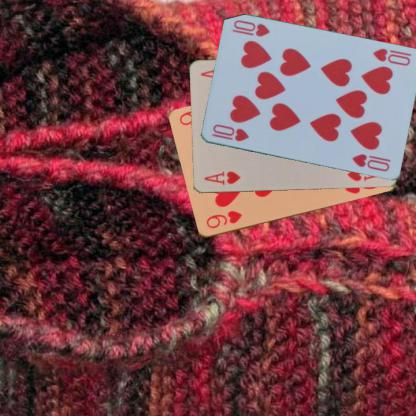10h: (209, 121, 250, 143), (370, 45, 411, 67)
9h: (204, 208, 244, 230)
Ah: (202, 168, 242, 186)
